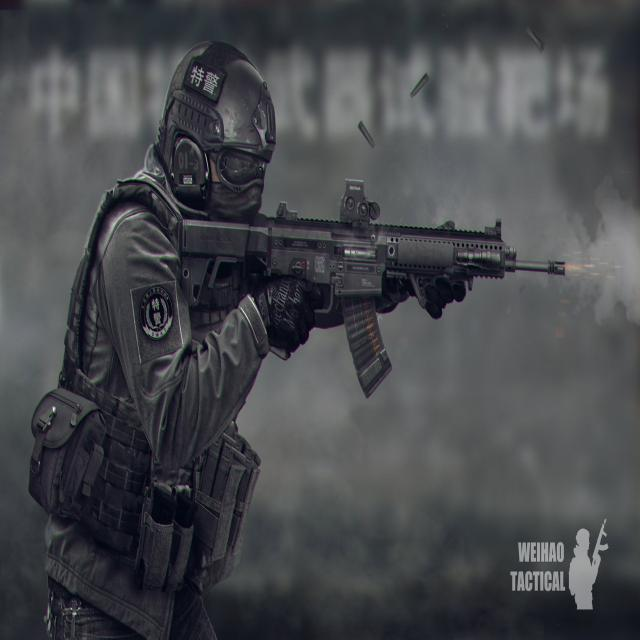Rifle: (180, 179, 560, 398)
